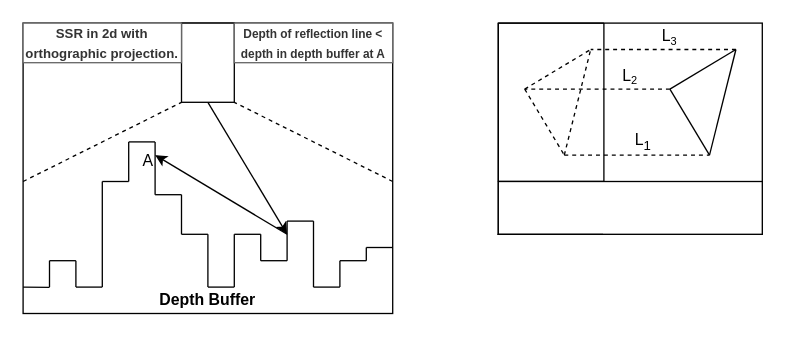
The diagram is 785 pixels wide and 337 high, and some of its shapes have lost their labels. Each missing label, with the centre of its shape:
"Camera" belongs at point (207, 62).
"Then, divide the x and y components of each projected point by L x" belongs at point (629, 207).
